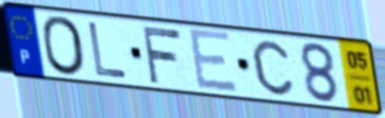8: (297, 41, 341, 105)
C: (250, 38, 296, 98)
E: (185, 26, 241, 94)
F: (139, 24, 184, 86)
L: (85, 20, 130, 81)
O: (39, 14, 89, 78)
